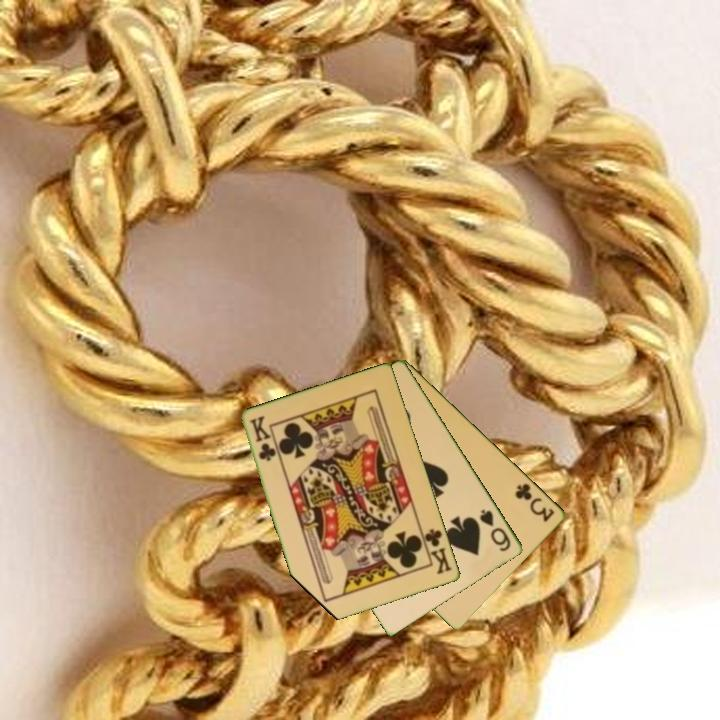3c: (512, 480, 558, 525)
6s: (476, 506, 514, 555)
Kc: (418, 525, 455, 578), (247, 413, 279, 464)
